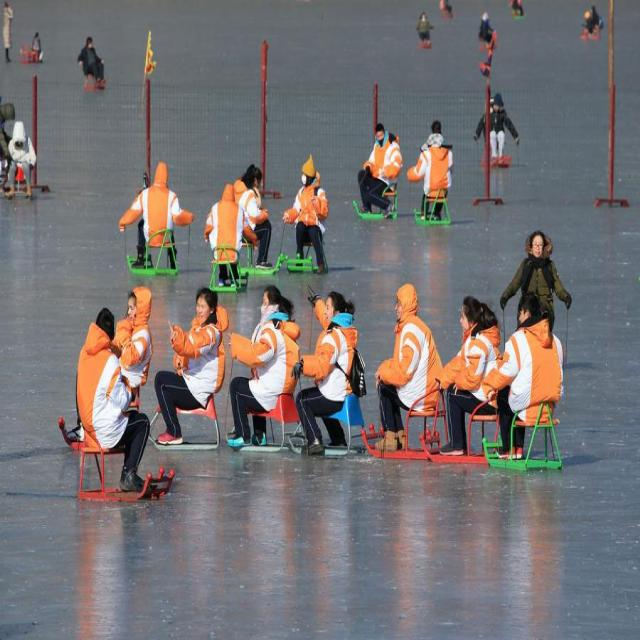body: (72, 303, 154, 497), (483, 289, 567, 461), (224, 280, 302, 452), (372, 279, 446, 455), (289, 282, 360, 457), (153, 286, 227, 447), (435, 294, 504, 458), (117, 160, 196, 270), (499, 229, 573, 333), (280, 150, 332, 277), (203, 181, 260, 289), (404, 116, 454, 225), (112, 283, 154, 404), (356, 120, 404, 220), (233, 163, 273, 271), (470, 88, 520, 165), (3, 117, 38, 199), (75, 34, 106, 87), (0, 101, 16, 183), (0, 0, 15, 64), (580, 2, 602, 37), (414, 10, 434, 48), (478, 10, 496, 44), (507, 0, 525, 19), (32, 31, 42, 64), (437, 0, 453, 19)
